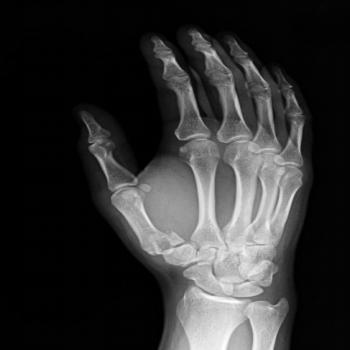Fracture: (162, 228, 191, 249)
